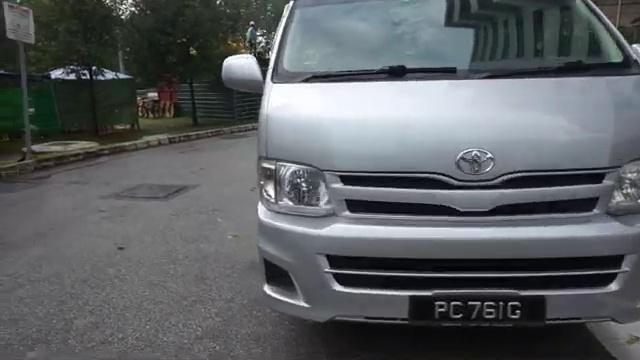Van: (218, 2, 640, 352)
